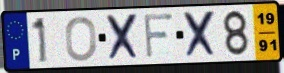1: (30, 16, 49, 64)
8: (221, 8, 252, 58)
F: (142, 12, 175, 61)
O: (64, 15, 99, 63)
X: (105, 12, 142, 63), (182, 9, 219, 60)
